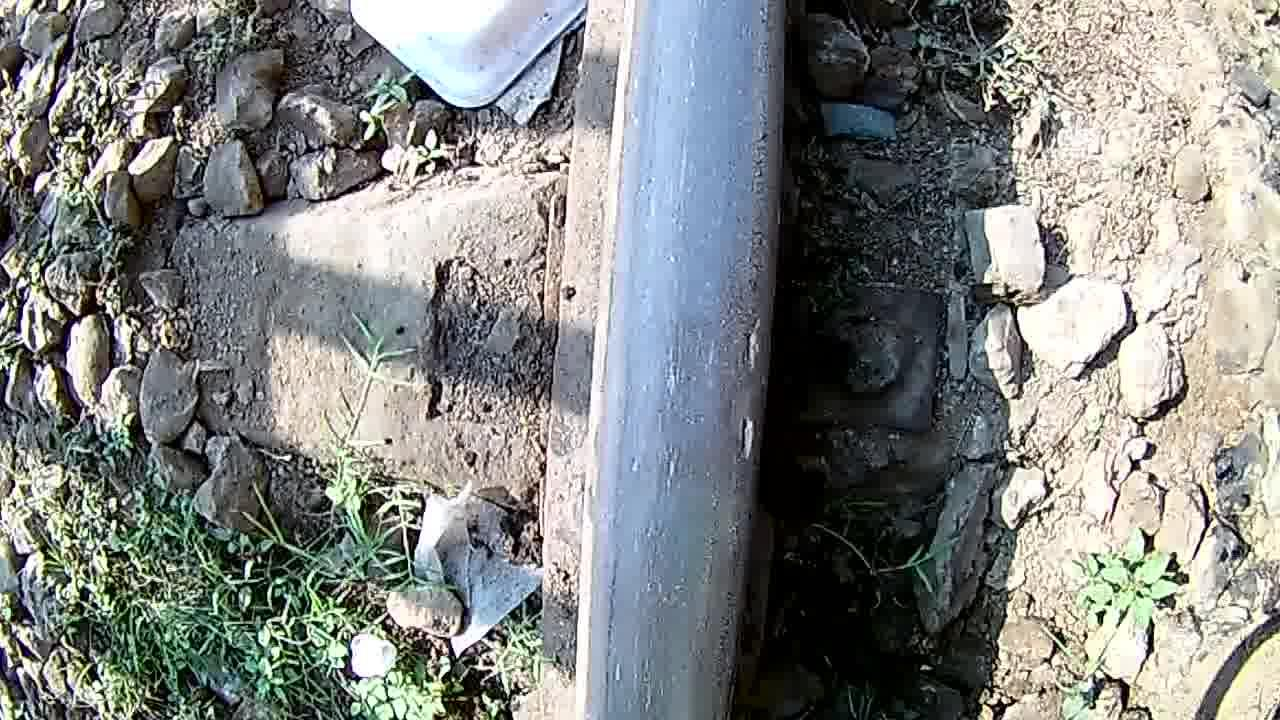crack: (708, 284, 779, 505)
